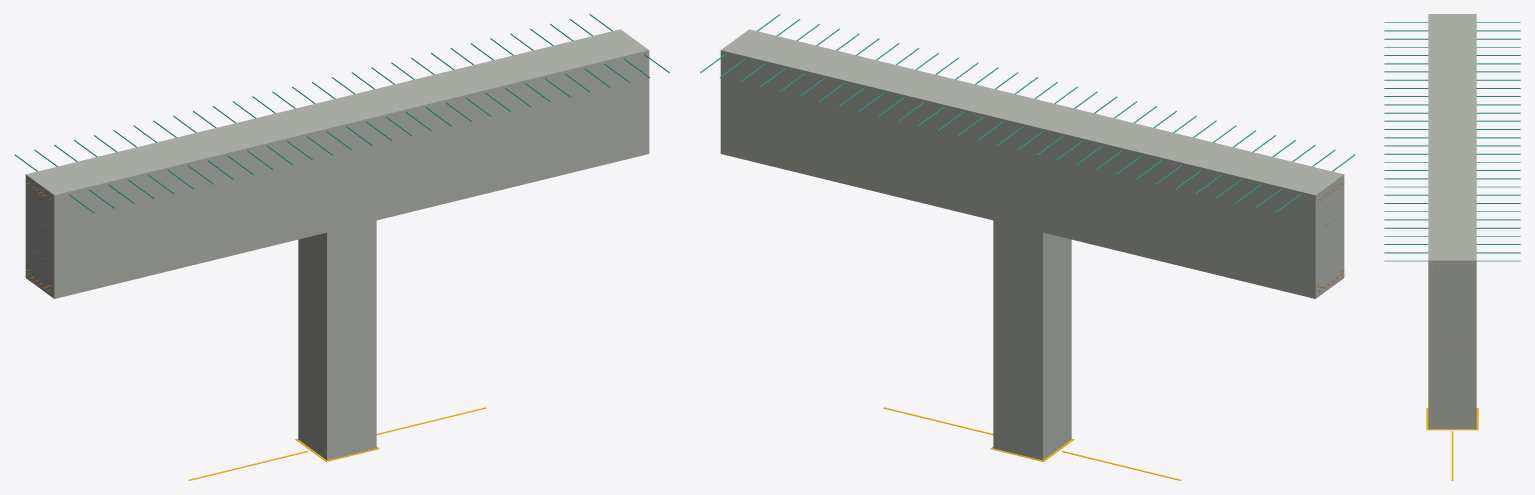
The model's file is unterzug-441-vorort13.glb.
The picture shows the model from 3 angles, left to right: view 1: azimuth 30°, elevation 25°; view 2: azimuth 150°, elevation 25°; view 3: azimuth 270°, elevation 25°; orthographic projection. The views are drawn at different scales.
Parts seen in each view (by area): view 1: Beton; view 2: Beton; view 3: Beton, Pos_30_geschaetzt_112, Pos_30_geschaetzt_113, Pos_30_geschaetzt_116, Pos_30_geschaetzt_117, Pos_30_geschaetzt_118, Pos_30_geschaetzt_121, Pos_30_geschaetzt_122, Pos_30_geschaetzt_123, Pos_30_geschaetzt_125, Pos_30_geschaetzt_126, Pos_30_geschaetzt_127 (+7 smaller).
Boxes of the visible parts, left/top/right/bottom form: Beton: left=25, top=29, right=649, bottom=460; Beton: left=720, top=29, right=1344, bottom=460; Beton: left=1428, top=14, right=1476, bottom=429; Pos_30_geschaetzt_112: left=1384, top=30, right=1520, bottom=31; Pos_30_geschaetzt_113: left=1384, top=38, right=1520, bottom=39; Pos_30_geschaetzt_116: left=1384, top=63, right=1520, bottom=64; Pos_30_geschaetzt_117: left=1384, top=71, right=1520, bottom=72; Pos_30_geschaetzt_118: left=1384, top=79, right=1520, bottom=80; Pos_30_geschaetzt_121: left=1384, top=104, right=1520, bottom=105; Pos_30_geschaetzt_122: left=1384, top=112, right=1520, bottom=113; Pos_30_geschaetzt_123: left=1384, top=120, right=1520, bottom=121; Pos_30_geschaetzt_125: left=1384, top=137, right=1520, bottom=138; Pos_30_geschaetzt_126: left=1384, top=145, right=1520, bottom=146; Pos_30_geschaetzt_127: left=1384, top=153, right=1520, bottom=154.
Size of the model in its own units: 6.11 by 3.2 by 1.4.
